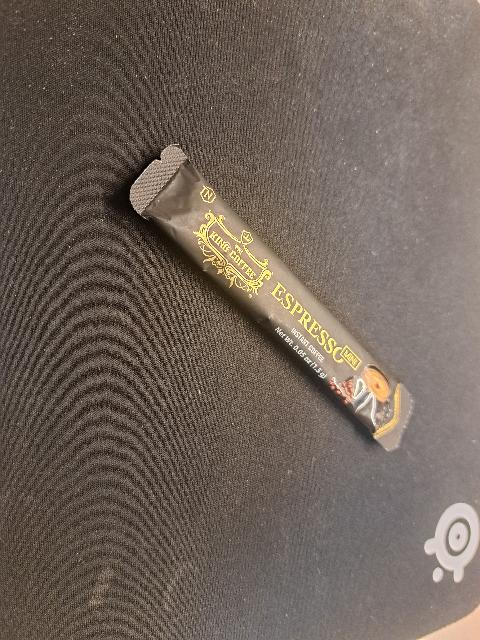espresso_mini: (92, 118, 429, 473)
